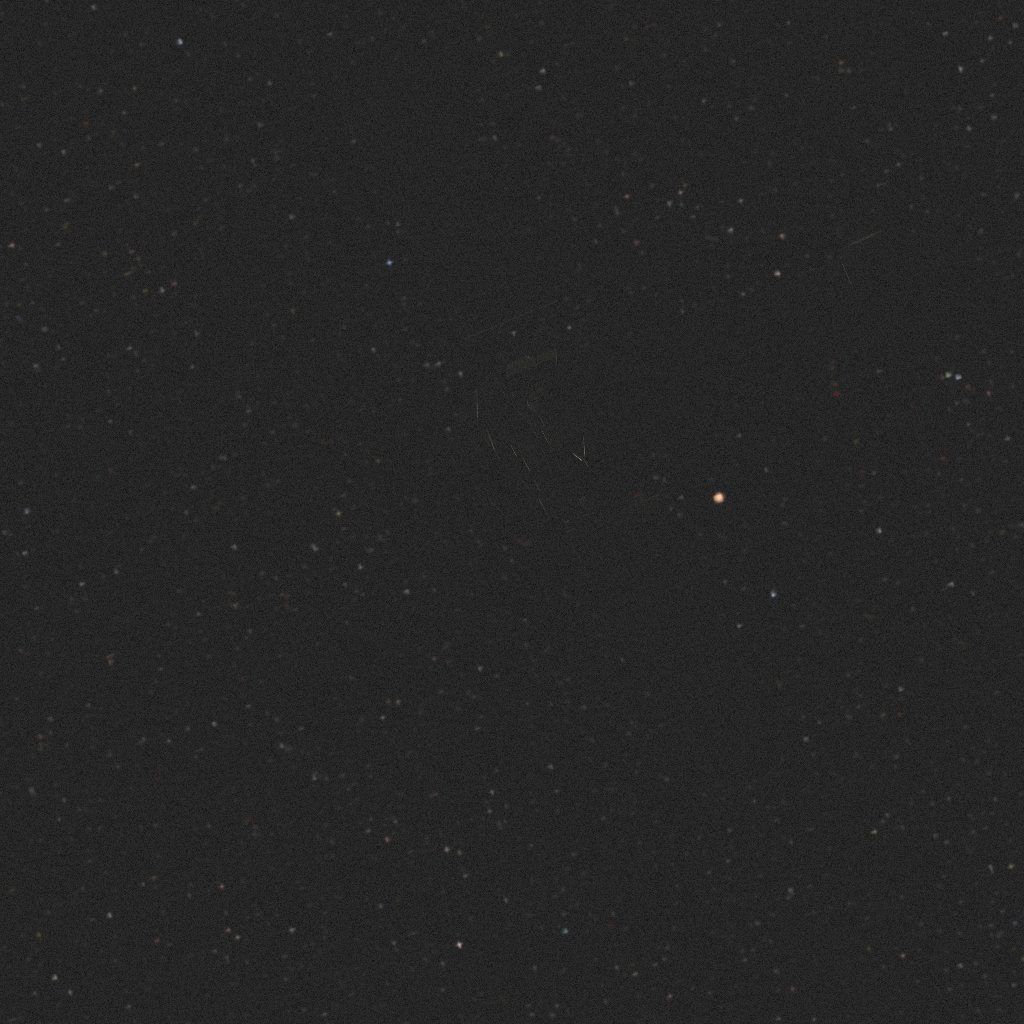xmm_newton: (331, 49, 975, 770)
